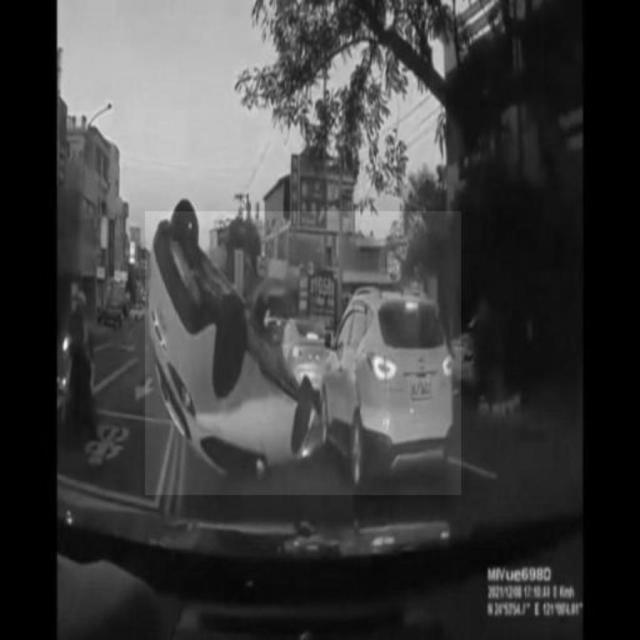accident: (145, 212, 461, 496)
